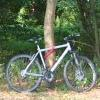bicycles: (5, 33, 97, 94)
